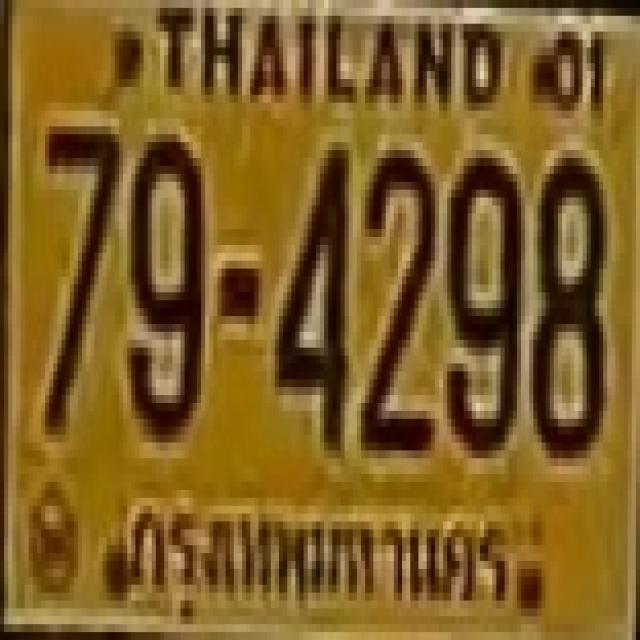2: (359, 142, 433, 442)
4: (275, 134, 344, 442)
7: (43, 118, 117, 426)
8: (529, 150, 603, 450)
9: (125, 126, 199, 434), (443, 150, 517, 450)
BKK: (116, 490, 524, 624)
